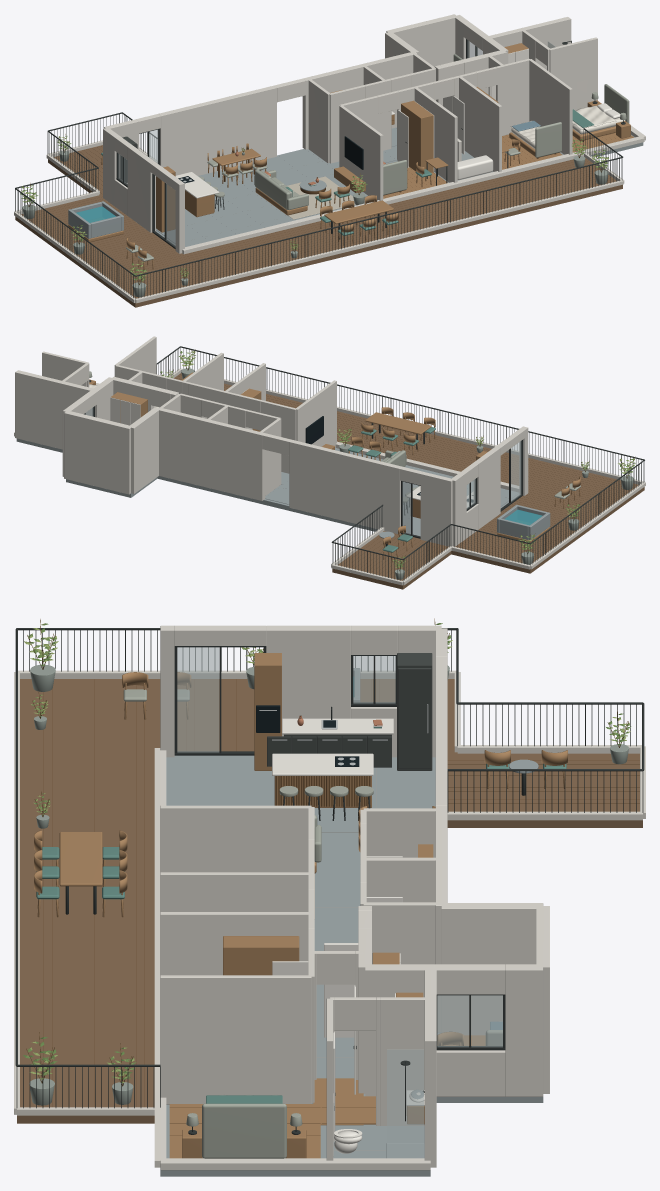
3 renders of one model, top to bottom at view 1: azimuth 30°, elevation 25°; view 2: azimuth 150°, elevation 25°; view 3: azimuth 270°, elevation 25°, orthographic. The views are drawn at different scales.
Parts seen in each view (by area): view 1: AFK_Main wraparound terrace, AFK_Entry facade pier 1, AFK_Living dining kitchen floor, AFK_South section edge, AFK_Bath bedroom3 partition, AFK_Terrace curb south, AFK_Bedroom3 master partition, AFK_Living private wing, AFK_Entry facade end, AFK_Ensuite south, AFK_Mamad north, AFK_Bedroom3 entry end (+38 smaller); view 2: AFK_Main wraparound terrace, AFK_Entry facade pier 1, AFK_Entry facade end, AFK_Mamad north, AFK_Master north, AFK_Kitchen side terrace, AFK_Entry facade pier 0, AFK_Mamad west, AFK_Living private wing, AFK_Kitchen west pier 1, AFK_Apartment slab, AFK_Terrace curb south (+23 smaller); view 3: AFK_Main wraparound terrace, AFK_Bedroom3 master partition, AFK_Living dining kitchen floor, AFK_Kitchen side terrace, AFK_Living private wing, AFK_Mamad west, AFK_Kitchen west pier 1, AFK_Bath bedroom3 partition, AFK_Bedroom2 bath partition, AFK_Mamad east pier 0, AFK_Master wardrobe wall, AFK_Master upholstered headboard (+46 smaller).
Boxes of the visible parts, <box> form: AFK_Main wraparound terrace: <box>15,158,622,307</box>; AFK_Entry facade pier 1: <box>158,85,276,175</box>; AFK_Living dining kitchen floor: <box>156,149,367,246</box>; AFK_South section edge: <box>182,136,644,254</box>; AFK_Bath bedroom3 partition: <box>458,76,501,171</box>; AFK_Terrace curb south: <box>135,180,623,303</box>; AFK_Bedroom3 master partition: <box>529,59,572,154</box>; AFK_Living private wing: <box>339,105,383,200</box>; AFK_Entry facade end: <box>302,52,416,149</box>; AFK_Ensuite south: <box>549,37,597,110</box>; AFK_Mamad north: <box>386,14,456,66</box>; AFK_Bedroom3 entry end: <box>496,58,530,135</box>; AFK_Main wraparound terrace: <box>174,373,644,573</box>; AFK_Entry facade pier 1: <box>289,440,402,534</box>; AFK_Entry facade end: <box>158,407,265,500</box>; AFK_Mamad north: <box>64,410,131,494</box>; AFK_Master north: <box>15,370,95,449</box>; AFK_Kitchen side terrace: <box>332,531,451,589</box>; AFK_Entry facade pier 0: <box>420,472,452,546</box>; AFK_Mamad west: <box>130,407,159,493</box>; AFK_Living private wing: <box>295,380,336,447</box>; AFK_Kitchen west pier 1: <box>474,446,500,528</box>; AFK_Apartment slab: <box>16,438,519,531</box>; AFK_Terrace curb south: <box>181,368,644,484</box>; AFK_Main wraparound terrace: <box>17,679,457,1123</box>; AFK_Bedroom3 master partition: <box>160,975,311,1104</box>; AFK_Living dining kitchen floor: <box>169,758,435,933</box>; AFK_Kitchen side terrace: <box>447,753,642,827</box>; AFK_Living private wing: <box>160,805,311,872</box>; AFK_Mamad west: <box>441,903,543,1035</box>; AFK_Kitchen west pier 1: <box>266,625,350,736</box>; AFK_Bath bedroom3 partition: <box>160,912,311,975</box>; AFK_Bedroom2 bath partition: <box>160,872,311,911</box>; AFK_Mamad east pier 0: <box>505,964,543,1096</box>; AFK_Master wardrobe wall: <box>380,997,428,1125</box>; AFK_Master upholstered headboard: <box>202,1103,286,1158</box>.
Size of the model in its own units: 23.79 by 3.05 by 12.87.
